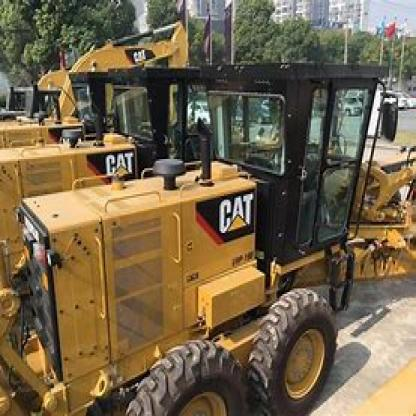bull_dozer/loader/grader: (0, 48, 414, 414)
